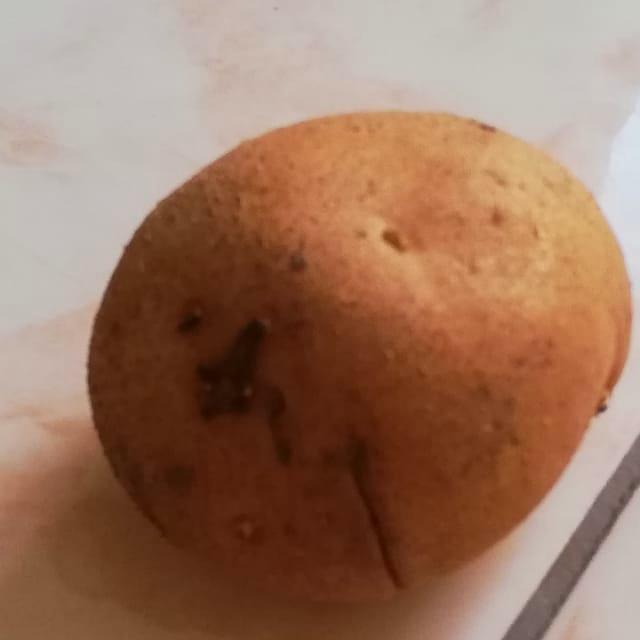potato: (61, 69, 640, 629)
